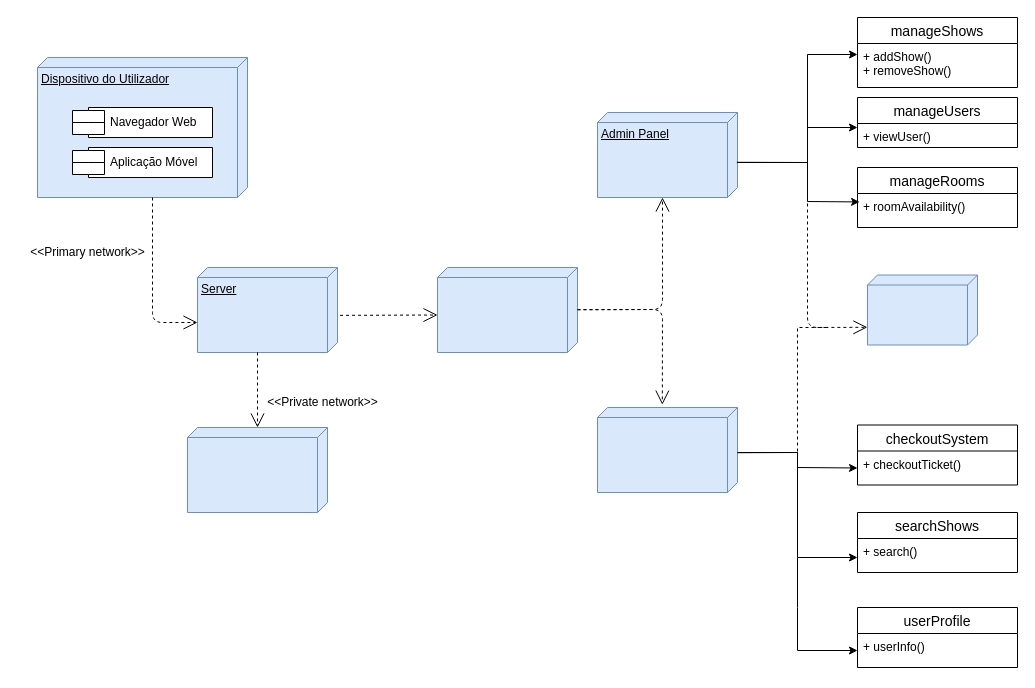
This 1035x688 diagram has some shape labels left out. Here are the shapes that lost their labels. From the top down, the centre of each, then its label:
At (x=507, y=309): "Login System".
At (x=922, y=309): "Logout".
At (x=257, y=469): "User DataBase".
At (x=667, y=449): "User Panel".
